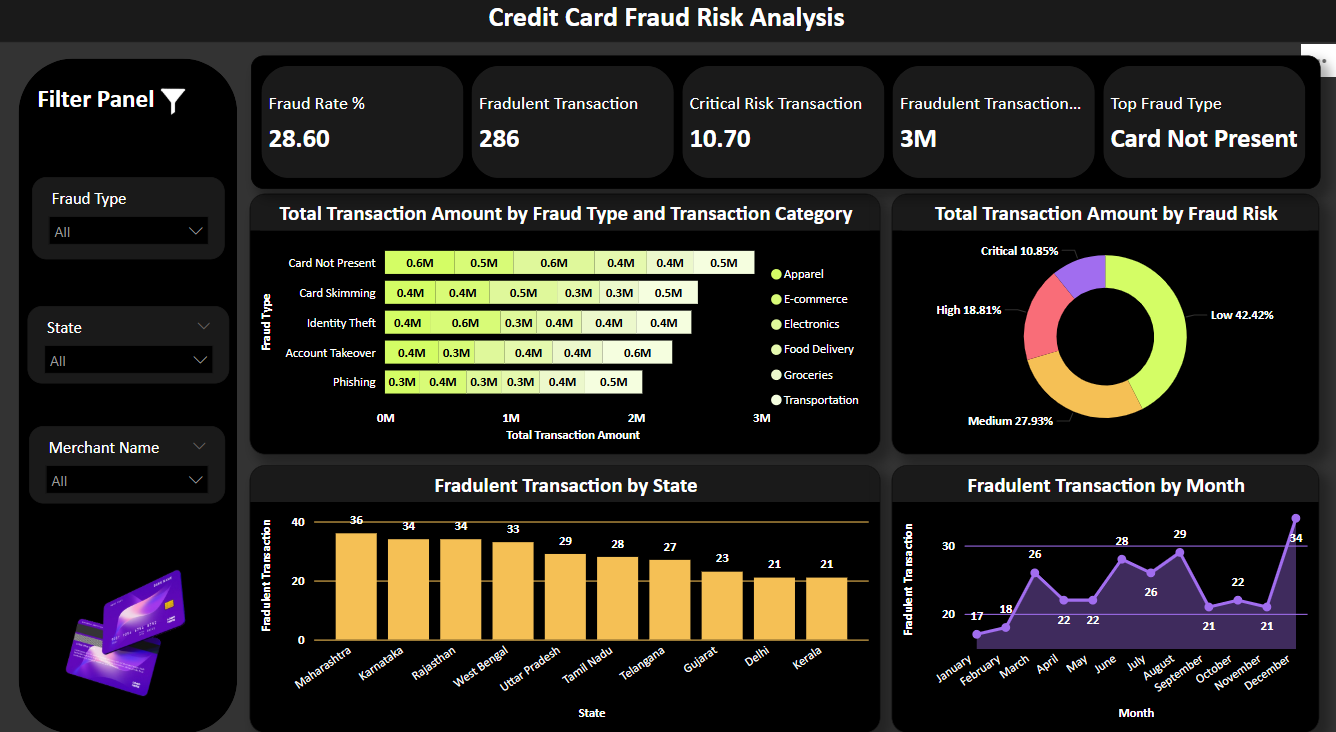

What the dashboard file says about the page in this screenshot:
{"tool":"powerbi","page":{"name":"Page 1","canvas":[1280,720],"ordinal":0},"visuals":[{"type":"textbox","box":[0,0,1280.6,46.3],"z":0},{"type":"shape","box":[20.9,61.2,209,644.8],"z":1000},{"type":"textbox","box":[34.3,80.6,141.8,46.3],"z":2000},{"type":"image","box":[146.1,71.6,45.8,63],"z":3000},{"type":"barChart","fields":{"Y":["Credit Card Fraud Risk Analysis.Total Transaction Amount"],"Category":["Credit Card Fraud Risk Analysis.Fraud Type"],"Series":["Credit Card Fraud Risk Analysis.Transaction Category"]},"box":[241.8,191,603,249.3],"z":4000},{"type":"donutChart","fields":{"Y":["Credit Card Fraud Risk Analysis.Total Transaction Amount"],"Category":["Credit Card Fraud Risk Analysis.Fraud Risk"]},"box":[855.2,191,409,249.3],"z":5000},{"type":"columnChart","fields":{"Category":["Credit Card Fraud Risk Analysis.State"],"Y":["Credit Card Fraud Risk Analysis.Fradulent Transaction"]},"box":[241.4,450,602.9,255.7],"z":6000},{"type":"lineChart","fields":{"Y":["Credit Card Fraud Risk Analysis.Fradulent Transaction"],"Category":["Credit Card Fraud Risk Analysis.Transaction Date.Variation.Date Hierarchy.Month"]},"box":[855.7,450,408.6,255.7],"z":7000},{"type":"slicer","fields":{"Values":["Credit Card Fraud Risk Analysis.Fraud Type"]},"box":[34.3,174.3,184.3,78.6],"z":8000},{"type":"slicer","fields":{"Values":["Credit Card Fraud Risk Analysis.State"]},"box":[30,298.6,192.9,74.3],"z":9000},{"type":"slicer","fields":{"Values":["Credit Card Fraud Risk Analysis.Merchant Name"]},"box":[31.4,412.9,187.1,74.3],"z":10000},{"type":"image","box":[0,530,191.4,162.9],"z":11000},{"type":"cardVisual","fields":{"Data":["Credit Card Fraud Risk Analysis.Fraud Rate %","Credit Card Fraud Risk Analysis.Fradulent Transaction","Credit Card Fraud Risk Analysis.Critical Risk Transaction","Credit Card Fraud Risk Analysis.Fraudulent Transaction Amount","Credit Card Fraud Risk Analysis.Top Fraud Type"]},"box":[242.9,58.6,1021.4,127.1],"z":12000}]}

Visuals, with their boxes in screenshot pixels (x1, y1, x2, y2), scaled from the page's 1280x720 canvas onto the 1336x732 screenshot:
textbox: 0,0,1335,47
shape: 22,62,240,718
textbox: 36,82,184,129
image: 152,73,200,137
barChart - Credit Card Fraud Risk Analysis.Total Transaction Amount x Credit Card Fraud Risk Analysis.Fraud Type: 252,194,882,448
donutChart - Credit Card Fraud Risk Analysis.Total Transaction Amount x Credit Card Fraud Risk Analysis.Fraud Risk: 893,194,1320,448
columnChart - Credit Card Fraud Risk Analysis.State x Credit Card Fraud Risk Analysis.Fradulent Transaction: 252,458,881,717
lineChart - Credit Card Fraud Risk Analysis.Fradulent Transaction x Credit Card Fraud Risk Analysis.Transaction Date.Variation.Date Hierarchy.Month: 893,458,1320,717
slicer - Credit Card Fraud Risk Analysis.Fraud Type: 36,177,228,257
slicer - Credit Card Fraud Risk Analysis.State: 31,304,233,379
slicer - Credit Card Fraud Risk Analysis.Merchant Name: 33,420,228,495
image: 0,539,200,704
cardVisual - Credit Card Fraud Risk Analysis.Fraud Rate % x Credit Card Fraud Risk Analysis.Fradulent Transaction: 254,60,1320,189
